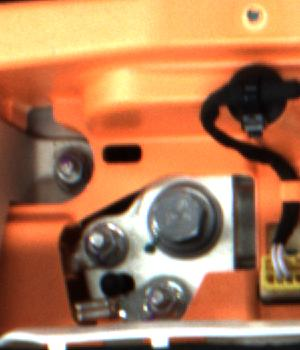screw_s: (53, 147, 101, 198), (85, 223, 134, 259), (139, 282, 177, 318)
